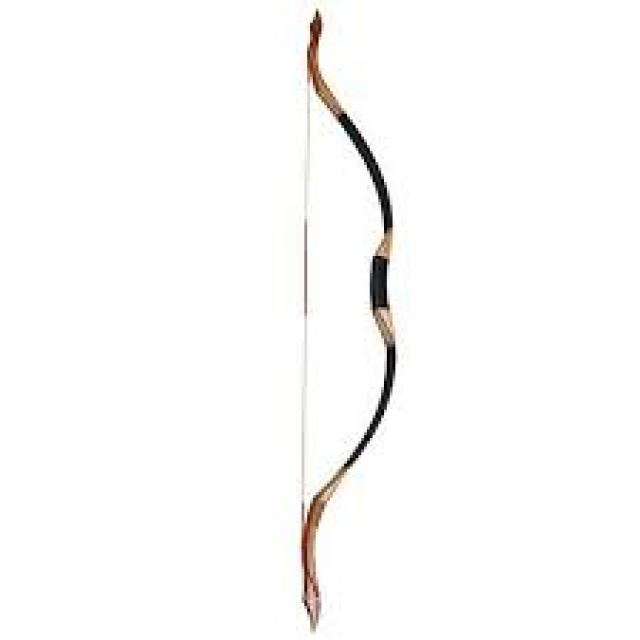X-Bow: (297, 10, 402, 631)
